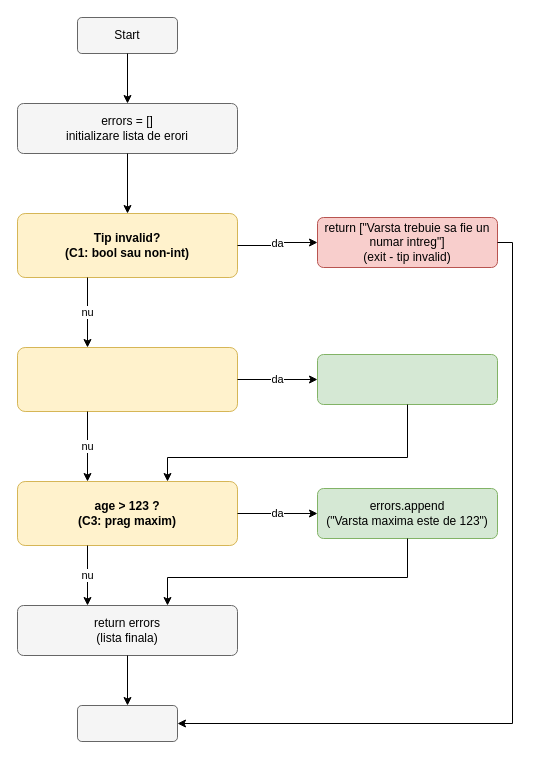
Some shapes in this 538 by 759 pixel diagram are drawn without their labels. Each missing label, with the centre of its shape:
age < 18 ? (C2: prag minim): point (127, 379)
End: point (127, 723)
errors.append ("Varsta minima este de 18"): point (407, 379)
